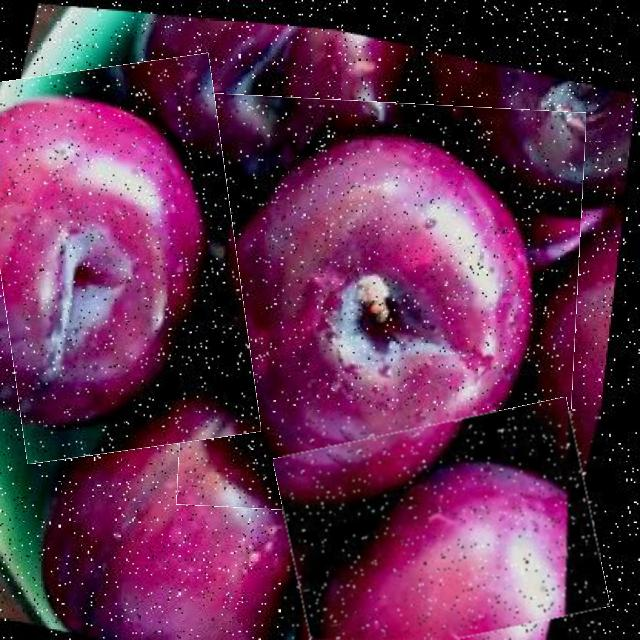plum: (182, 98, 581, 520), (0, 60, 248, 457), (282, 411, 601, 640)
